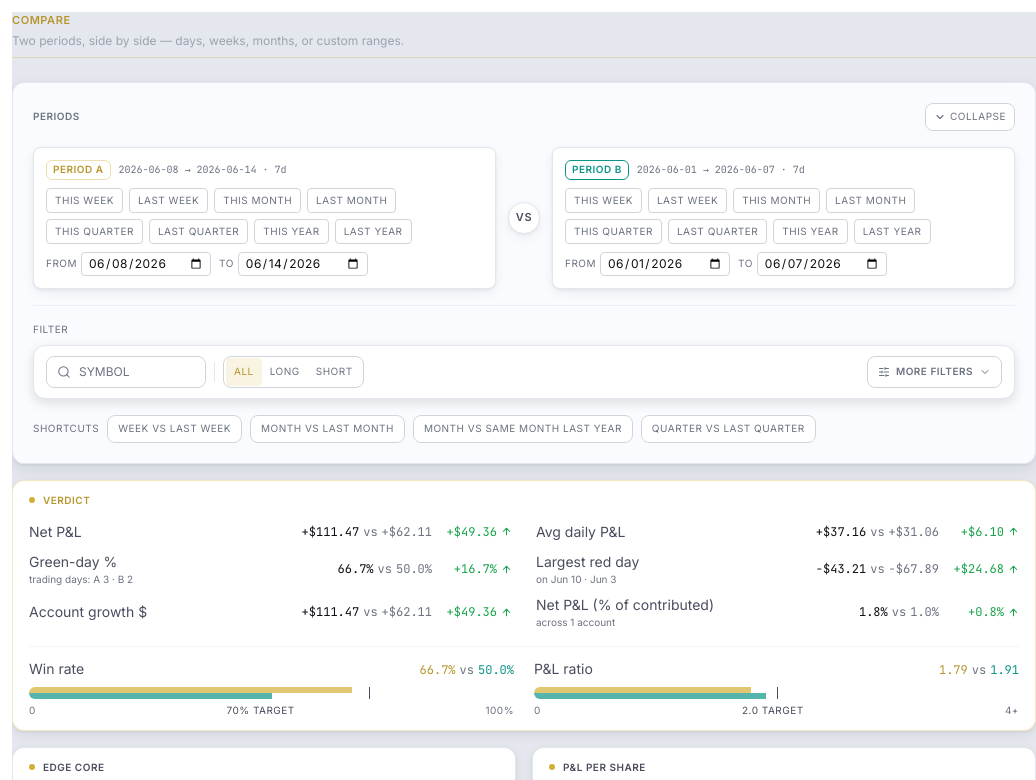
Test: AnalyticsCompareTab — mistake filter (Dave #14 A) › (3) EMPTY-SAFE: a mistake with zero trades in one period keeps the house zero-trades honesty — no NaN, no crash
Click the button "More filters".
click(934, 372)  # box x1=867 y1=356 x2=1002 y2=388
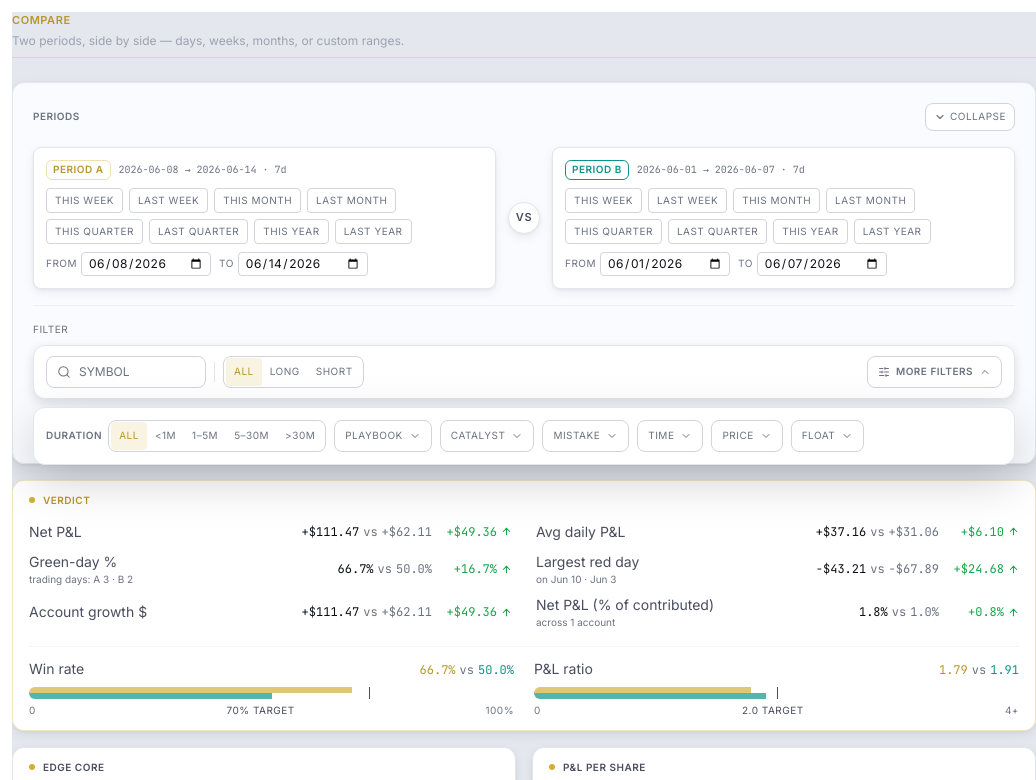
Click the button "Mistake".
click(586, 436)  # box x1=542 y1=420 x2=629 y2=452
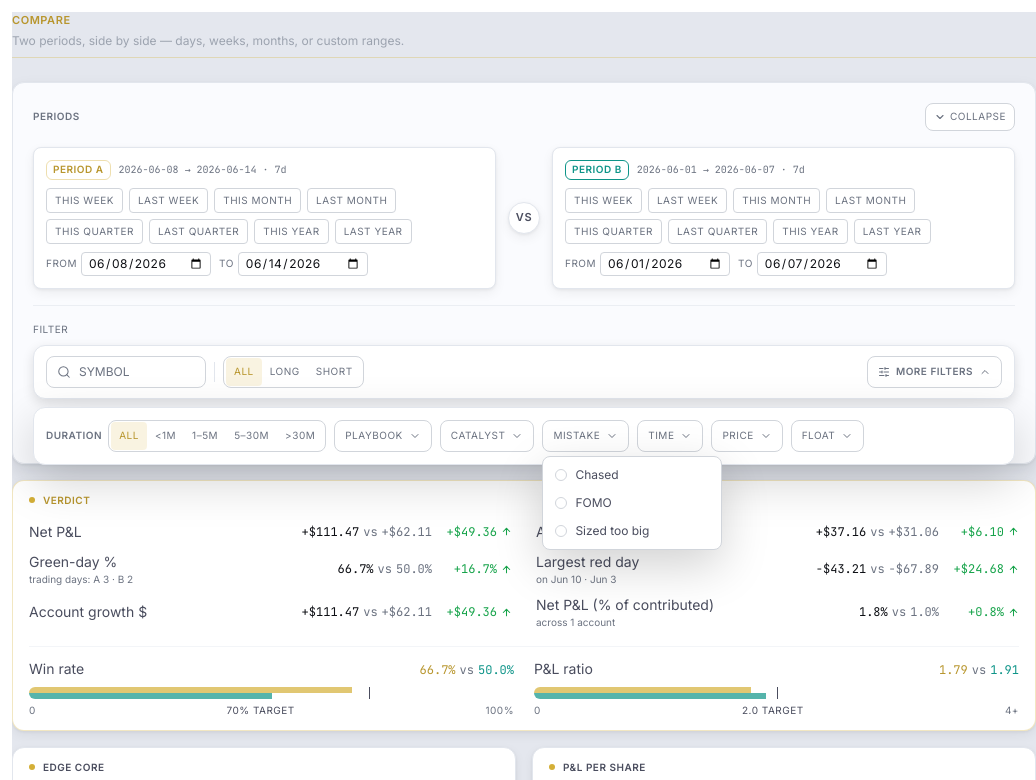
Click the button "Chased".
click(632, 474)  # box x1=547 y1=460 x2=717 y2=488
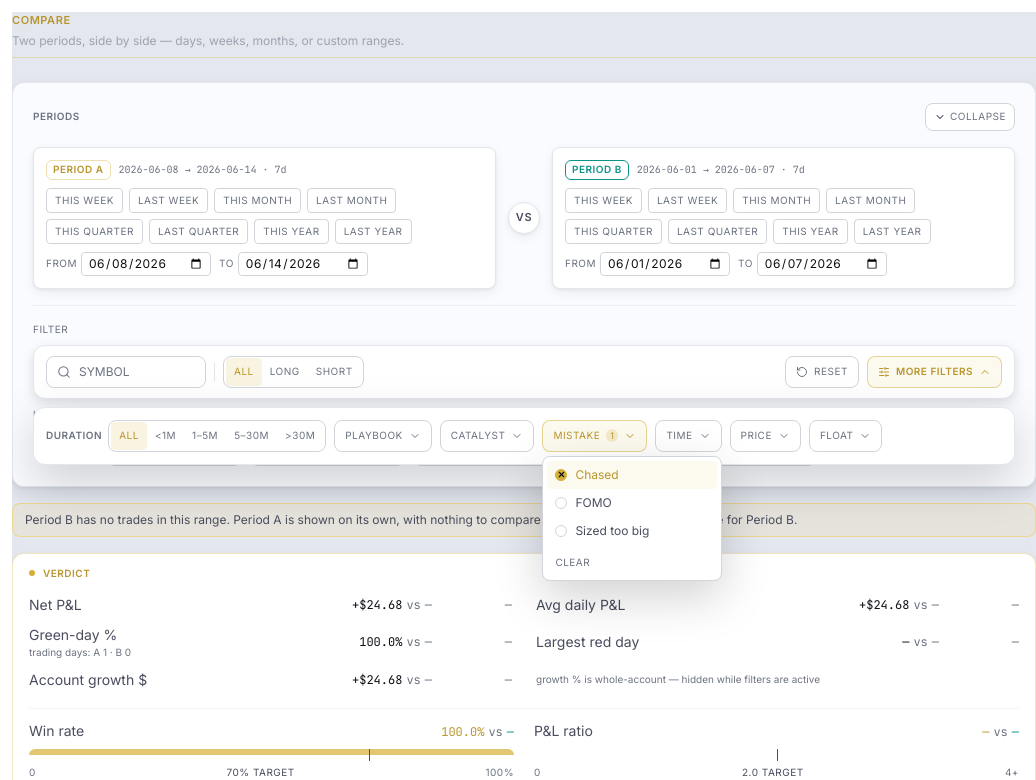
Expected: the text "Period B has no trades in this range" is shown, x1=25 y1=512 x2=797 y2=526
